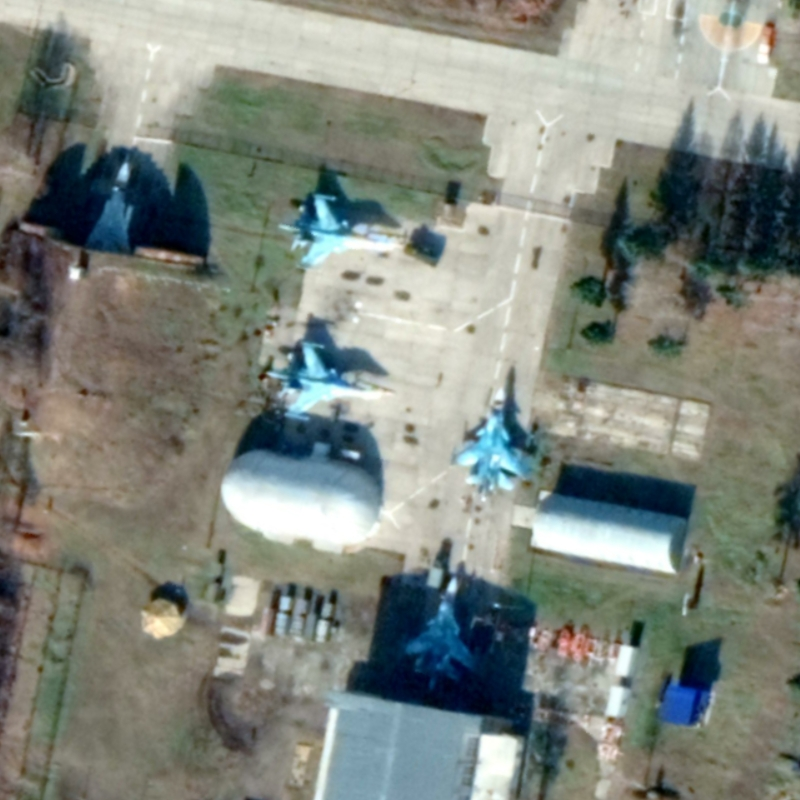A19: (276, 191, 404, 274), (450, 384, 536, 504), (263, 339, 384, 423), (402, 573, 481, 694)
A20: (80, 160, 136, 258)
